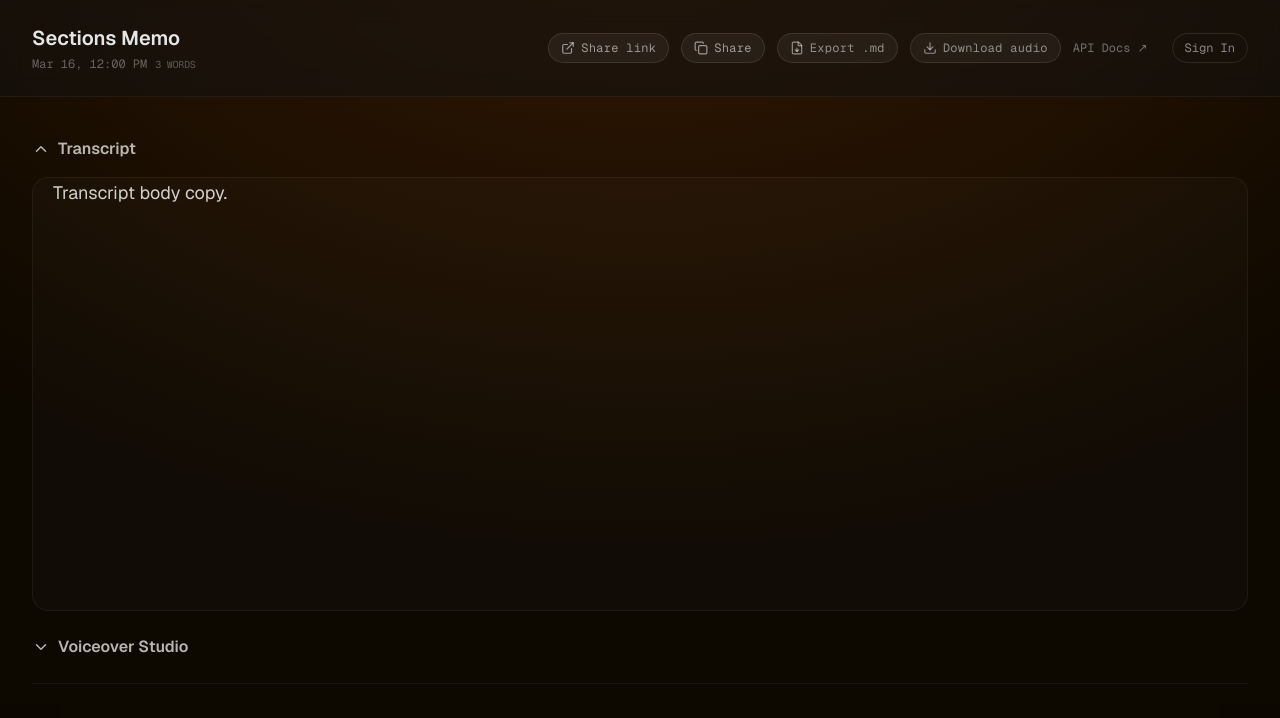
Test case: MemoDetailView › expands the transcript by default and collapses it on toggle
Expected: the text "Transcript body copy." is shown, x1=53 y1=181 x2=227 y2=204
Click the button "Transcript" at (97, 148), box x1=32 y1=137 x2=1248 y2=161
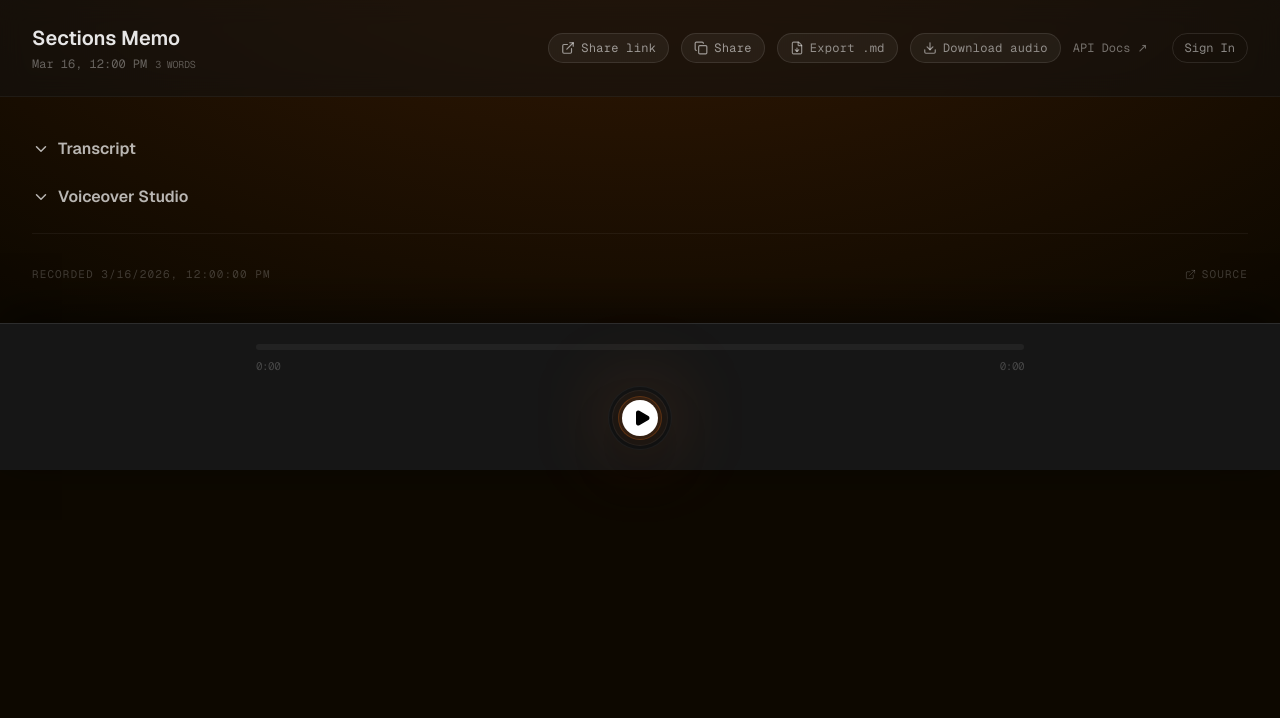
Expected: the button "Transcript" is collapsed
Expected: the text "Transcript body copy." is gone
Click the button "Transcript" at (97, 148), box x1=32 y1=137 x2=1248 y2=161
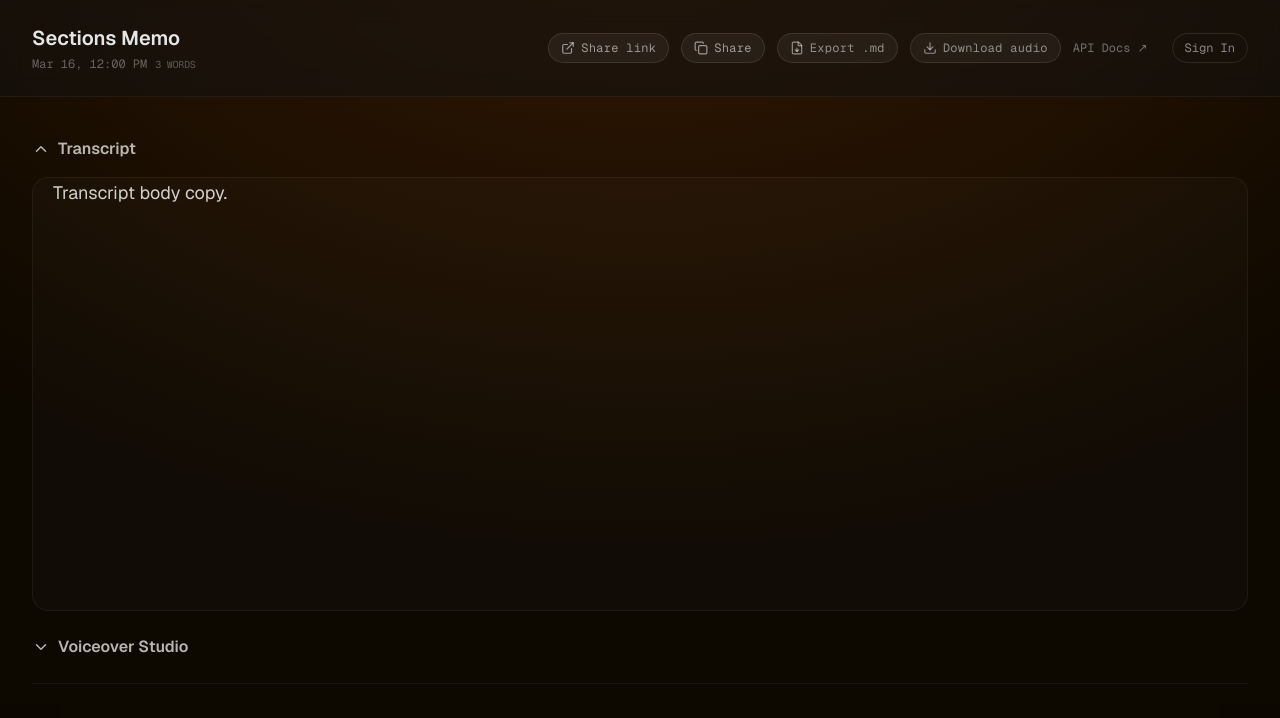
Expected: the text "Transcript body copy." is shown, x1=53 y1=181 x2=227 y2=204
